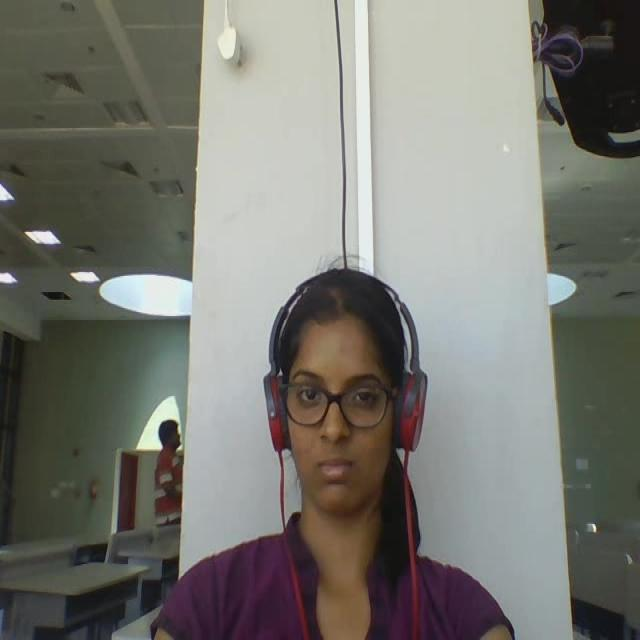Engaged: (238, 253, 466, 520)
